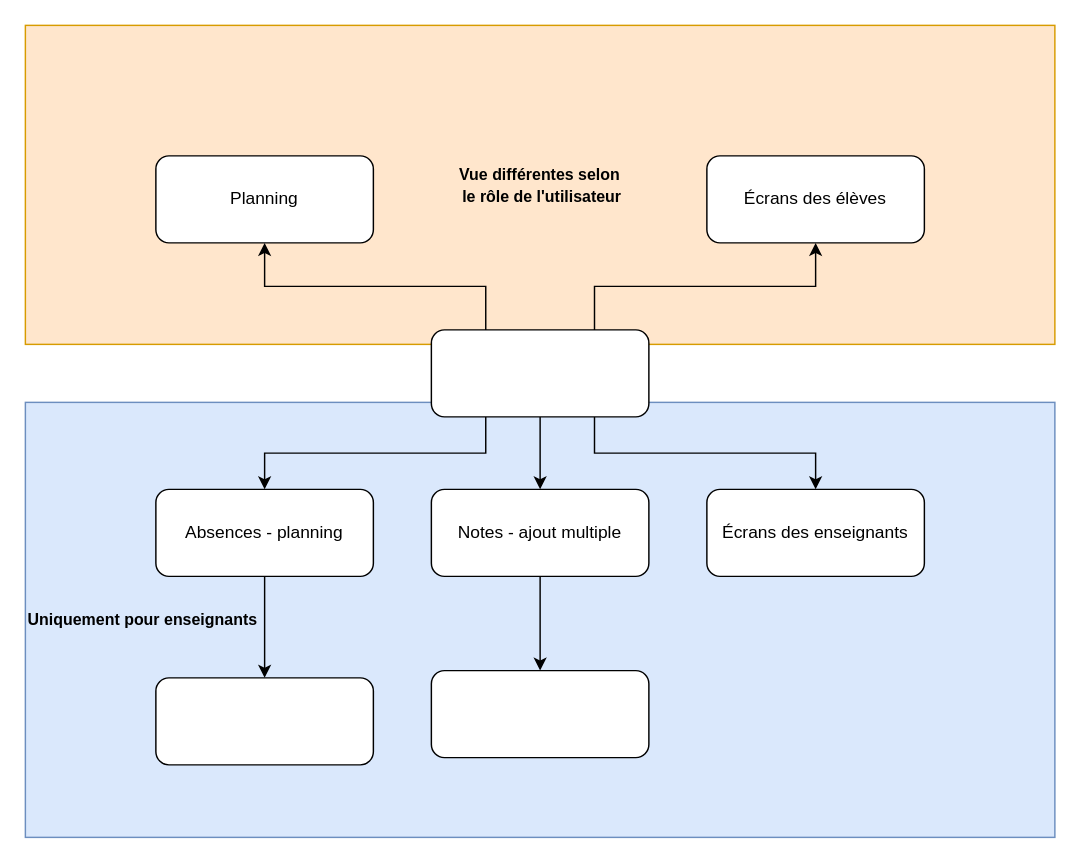
This 1080x863 diagram has some shape labels left out. Each missing label, with the centre of its shape:
"Absences - Ajout" belongs at point (263, 720).
"Notes - ajout unique / modification" belongs at point (539, 713).
"Écran principal d'accueil" belongs at point (539, 372).
